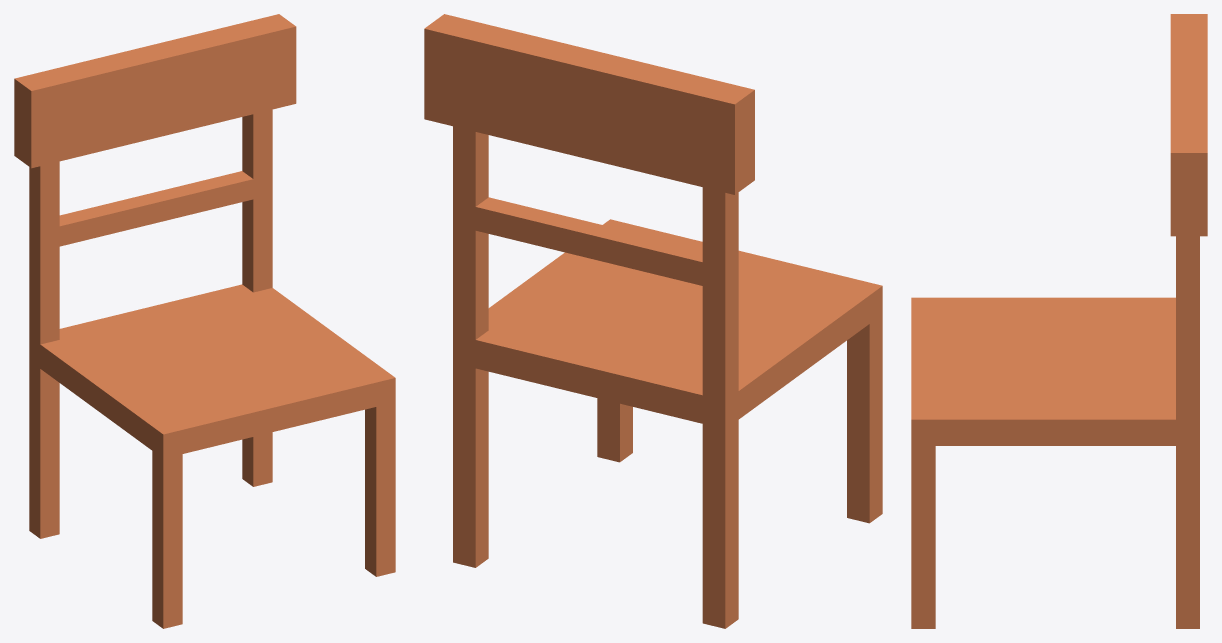
Rendered from chair.fbx.
3 renders of one model, left to right at view 1: azimuth 30°, elevation 25°; view 2: azimuth 150°, elevation 25°; view 3: azimuth 270°, elevation 25°, orthographic. The views are drawn at different scales.
Visible parts, largest first — view 1: Cube; view 2: Cube; view 3: Cube.
Part boxes in pixels (bbox=[...]): Cube: bbox=[14, 14, 395, 628]; Cube: bbox=[424, 14, 882, 628]; Cube: bbox=[911, 14, 1207, 628].
Bounding box in the file's own units: 45.6 × 74.46 × 41.03.
